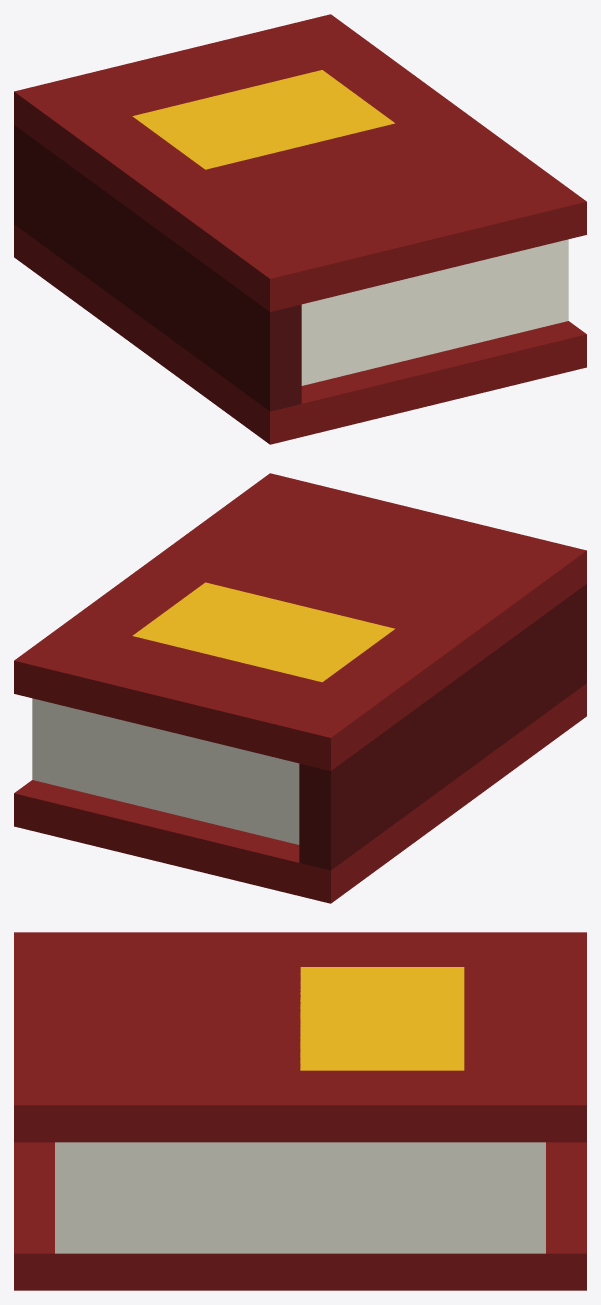
Rendered from item_MASTERY.glb.
3 renders of one model, top to bottom at view 1: azimuth 30°, elevation 25°; view 2: azimuth 150°, elevation 25°; view 3: azimuth 270°, elevation 25°, orthographic. The views are drawn at different scales.
Parts seen in each view (by area): view 1: item_MASTERY; view 2: item_MASTERY; view 3: item_MASTERY.
Part boxes in pixels (box(x1,y1,x2,y2)): item_MASTERY: box(14, 14, 586, 444); item_MASTERY: box(14, 473, 586, 903); item_MASTERY: box(14, 932, 586, 1290).
Bounding box in the file's own units: 0.2273 × 0.1136 × 0.3182.
1 material, 1 textured.
